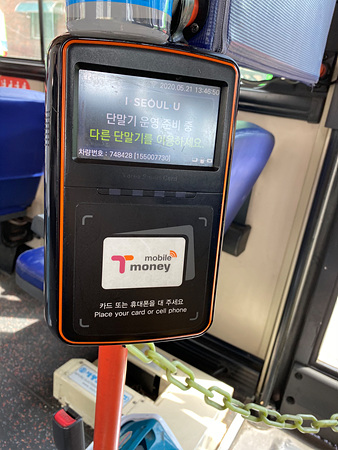terminal: (47, 50, 218, 339)
